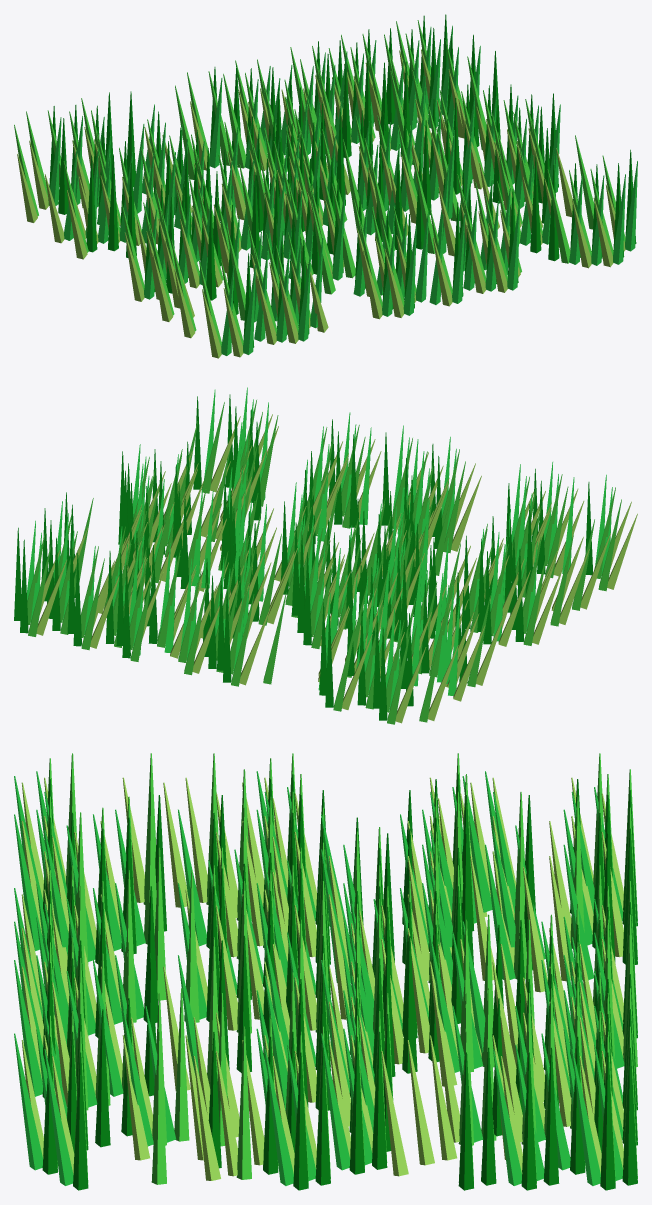
File: Grass_pack2.fbx
The picture shows the model from 3 angles, top to bottom: view 1: azimuth 30°, elevation 25°; view 2: azimuth 150°, elevation 25°; view 3: azimuth 270°, elevation 25°; orthographic projection. The views are drawn at different scales.
Visible parts, largest first — view 1: Cube.594, Cube.045, Cube.585, Cube.034, Cube.309, Cube.425, Cube.210, Cube.399, Cube.392, Cube.463, Cube.631, Cube.624 (+18 smaller); view 2: Cube.098, Cube.567, Cube.229, Cube.858, Cube.218, Cube.154, Cube.869, Cube.794, Cube.857, Cube.318, Cube.806, Cube.630 (+10 smaller); view 3: Cube.646, Cube.617, Cube.601, Cube.874, Cube.909, Cube.885, Cube.869, Cube.629, Cube.922, Cube.890, Cube.661, Cube.917 (+127 smaller).
Boxes of the visible parts, bbox=[...] form: Cube.594: bbox=[530, 156, 541, 253]; Cube.045: bbox=[108, 154, 118, 251]; Cube.585: bbox=[547, 169, 570, 263]; Cube.034: bbox=[86, 155, 97, 252]; Cube.309: bbox=[206, 204, 216, 300]; Cube.425: bbox=[310, 200, 335, 294]; Cube.210: bbox=[58, 118, 68, 214]; Cube.399: bbox=[403, 225, 416, 315]; Cube.392: bbox=[415, 212, 428, 302]; Cube.463: bbox=[243, 264, 255, 354]; Cube.631: bbox=[625, 161, 637, 251]; Cube.624: bbox=[613, 174, 625, 264]; Cube.098: bbox=[303, 552, 311, 645]; Cube.567: bbox=[359, 427, 371, 524]; Cube.229: bbox=[325, 614, 333, 707]; Cube.858: bbox=[73, 553, 81, 646]; Cube.218: bbox=[379, 627, 387, 720]; Cube.154: bbox=[223, 589, 231, 682]; Cube.869: bbox=[20, 539, 28, 633]; Cube.794: bbox=[122, 564, 130, 658]; Cube.857: bbox=[81, 558, 104, 650]; Cube.318: bbox=[550, 534, 573, 626]; Cube.806: bbox=[184, 583, 207, 675]; Cube.630: bbox=[201, 402, 224, 493]; Cube.646: bbox=[236, 1026, 251, 1179]; Cube.617: bbox=[151, 1031, 166, 1184]; Cube.601: bbox=[174, 988, 189, 1141]; Cube.874: bbox=[600, 1052, 615, 1190]; Cube.909: bbox=[349, 1036, 364, 1174]; Cube.885: bbox=[521, 1052, 536, 1190]; Cube.869: bbox=[622, 1047, 637, 1185]; Cube.629: bbox=[73, 1052, 88, 1190]; Cube.922: bbox=[481, 1047, 496, 1185]; Cube.890: bbox=[543, 1047, 559, 1185]; Cube.661: bbox=[293, 1052, 308, 1190]; Cube.917: bbox=[458, 1052, 473, 1190].
Bounding box in the file's own units: 771 × 167 × 654.
